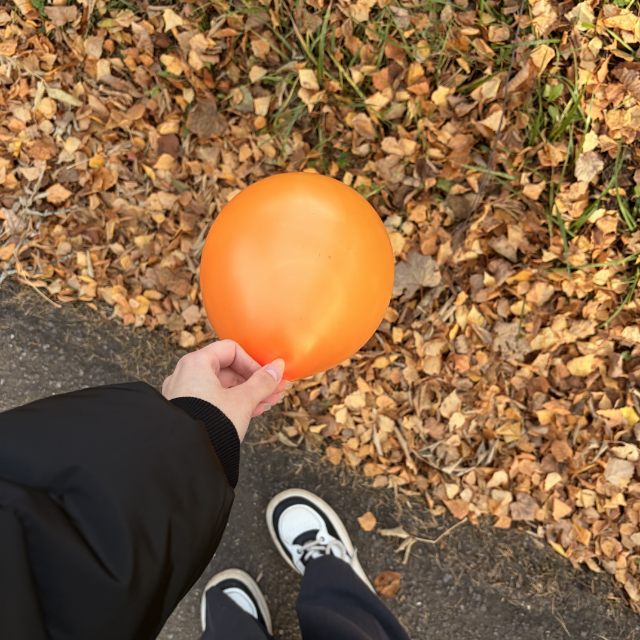balloon: (199, 171, 395, 383)
